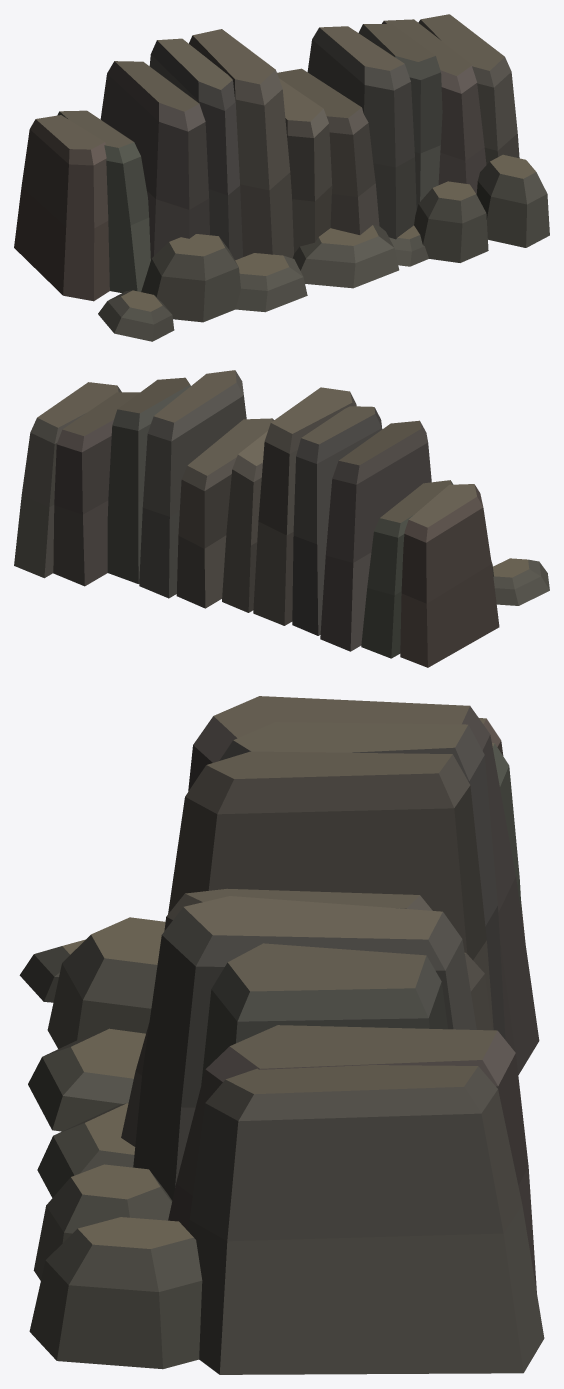
File: split-shoulder-lite.glb
3 views of the same model, one above another, from view 1: azimuth 30°, elevation 25°; view 2: azimuth 150°, elevation 25°; view 3: azimuth 270°, elevation 25° (orthographic). The views are drawn at different scales.
Parts seen in each view (by area): view 1: split-shoulder-lite; view 2: split-shoulder-lite; view 3: split-shoulder-lite.
Part boxes in pixels (x1,y1,x2,y2): split-shoulder-lite: [14, 14, 549, 341]; split-shoulder-lite: [14, 370, 549, 667]; split-shoulder-lite: [19, 696, 544, 1374].
Size of the model in its own units: 21.39 by 8.81 by 11.33.
